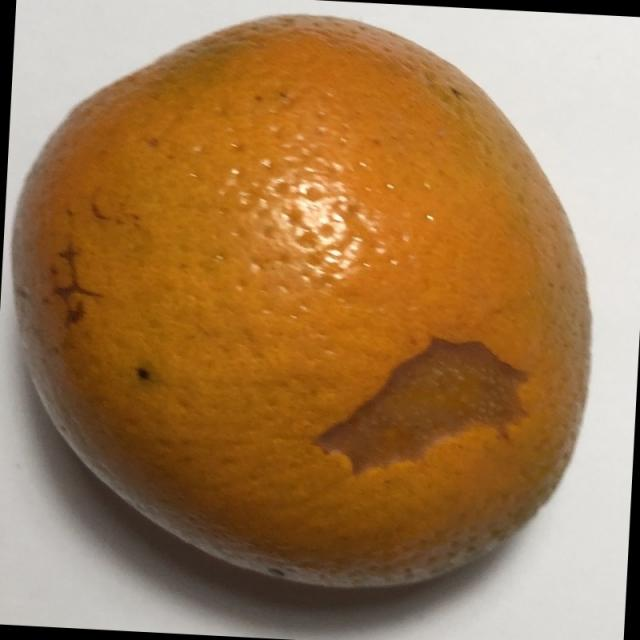canker: (14, 6, 609, 624)
